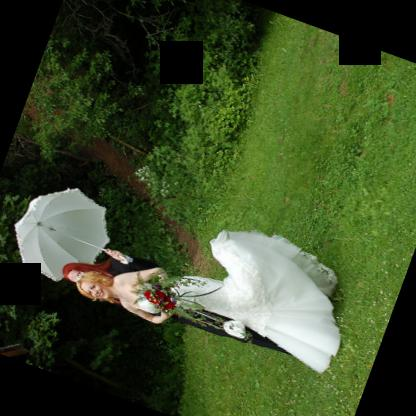handbag: (186, 308, 247, 338)
